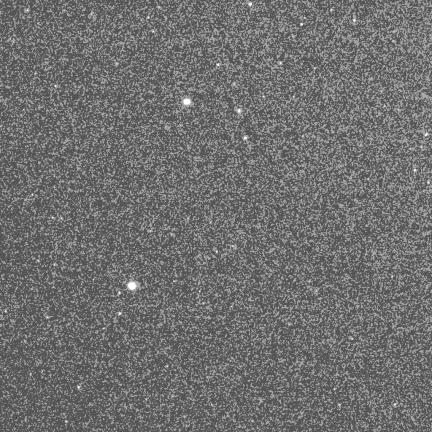blob: (128, 282, 136, 290), (183, 99, 191, 105), (237, 109, 241, 113), (118, 291, 122, 295), (244, 136, 248, 140), (147, 16, 151, 20), (300, 23, 304, 27), (78, 385, 81, 390), (279, 61, 282, 65), (414, 169, 417, 173), (425, 133, 429, 136), (249, 2, 252, 6), (353, 19, 356, 22), (217, 63, 220, 66), (118, 312, 121, 315)
